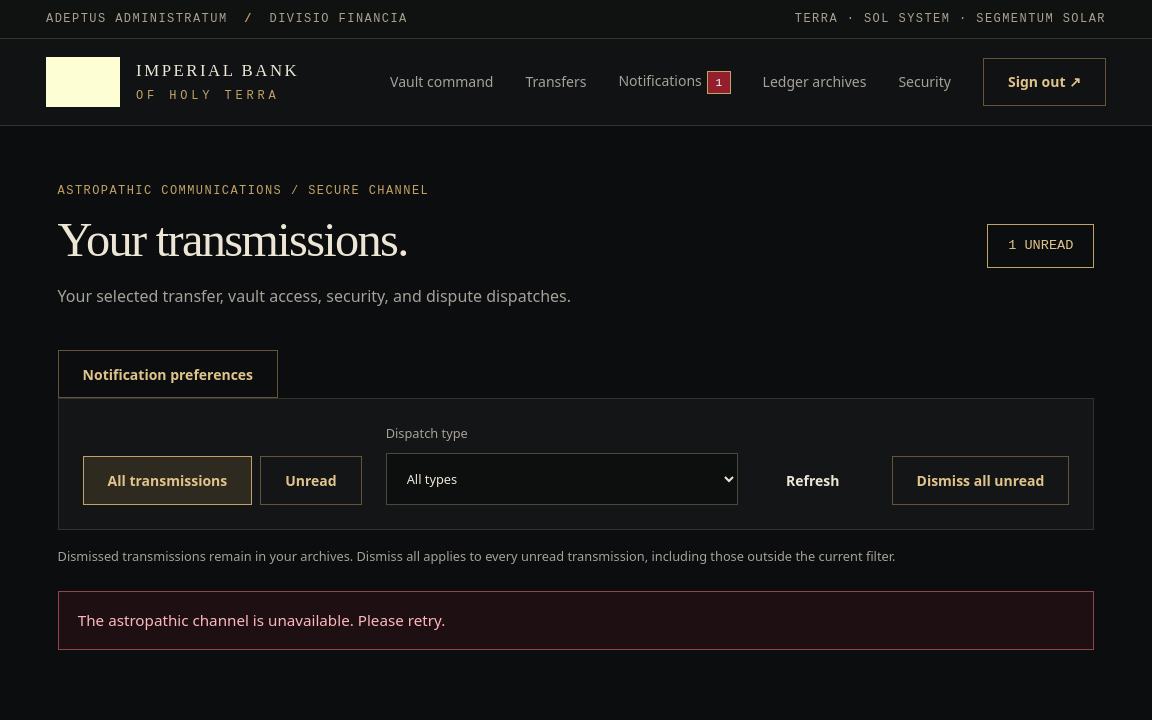
Test case: loading errors offer an operational refresh action
Check: the message "The astropathic channel is unavailable. Please retry." is shown, box [58,591,1094,650]
Click the button "Refresh".
click(813, 480)  # box [762,456,864,504]
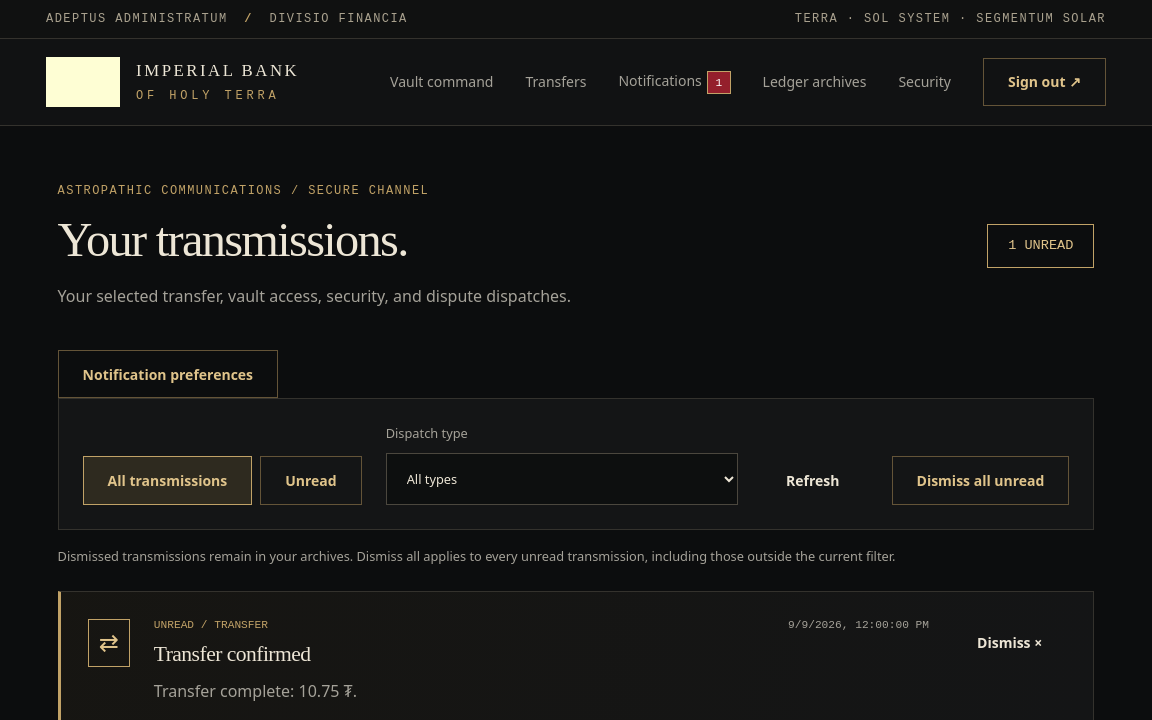
Check: the text "Transfer complete: 10.75 ₮." is shown, box [154,680,357,702]
Check: the message "The astropathic channel is unavailable. Please retry." is gone
